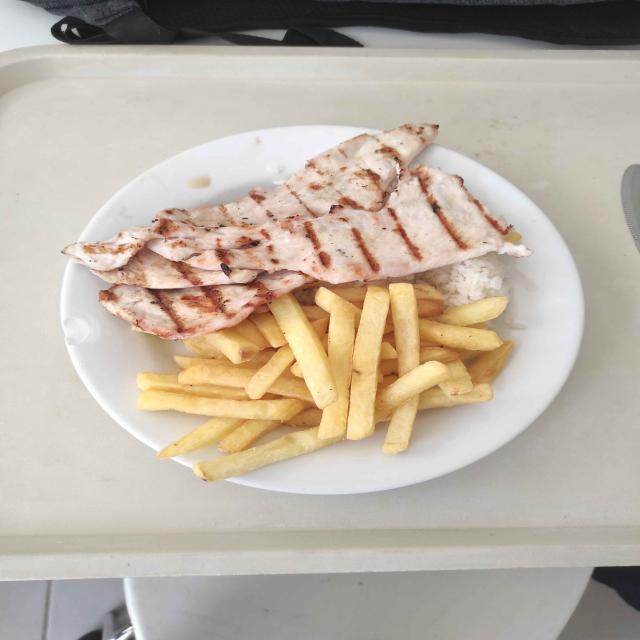board: (0, 45, 640, 580)
french fries: (137, 282, 513, 481)
grilled steak: (62, 124, 530, 340)
knife: (621, 164, 640, 252)
plate: (61, 126, 584, 494)
rice: (420, 254, 506, 307)
